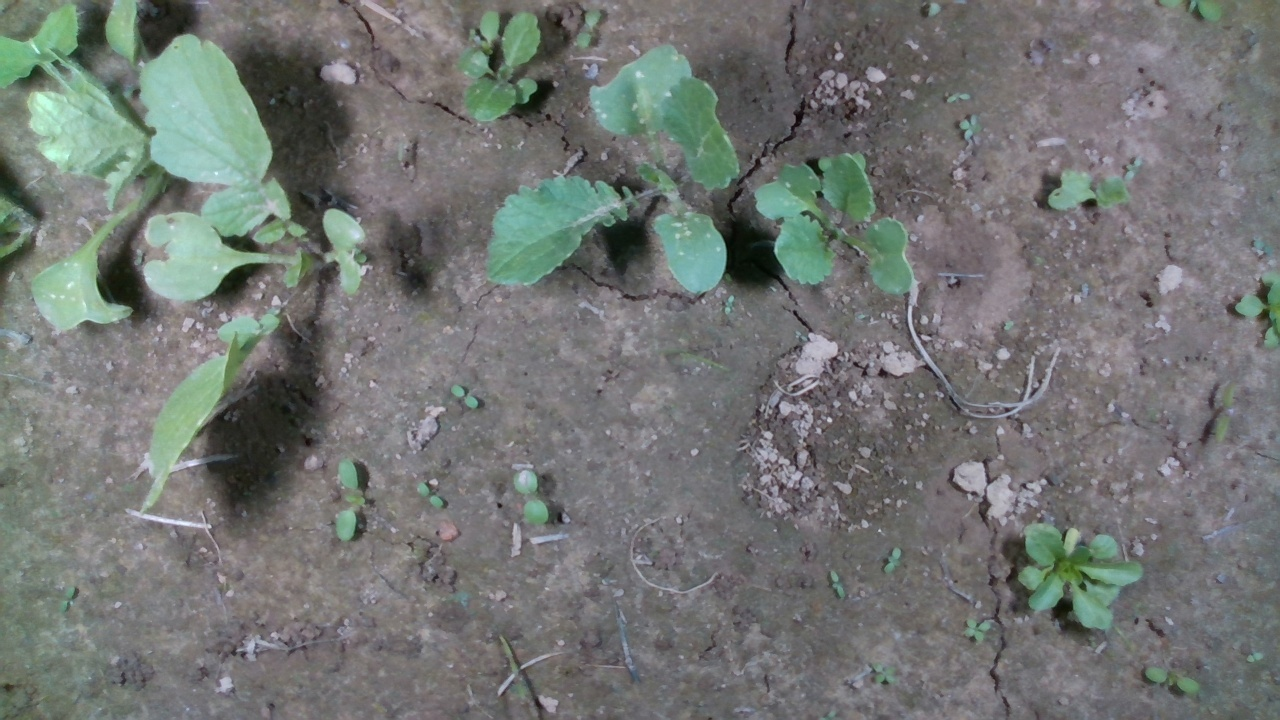weed: (332, 455, 367, 542), (510, 468, 553, 527), (1140, 664, 1203, 695), (1210, 380, 1238, 446), (573, 6, 606, 51), (413, 479, 447, 510), (958, 615, 991, 644), (445, 384, 481, 409), (955, 111, 982, 142), (826, 566, 849, 602), (879, 545, 905, 576), (870, 660, 898, 685), (1121, 153, 1144, 183), (1245, 650, 1266, 663)
